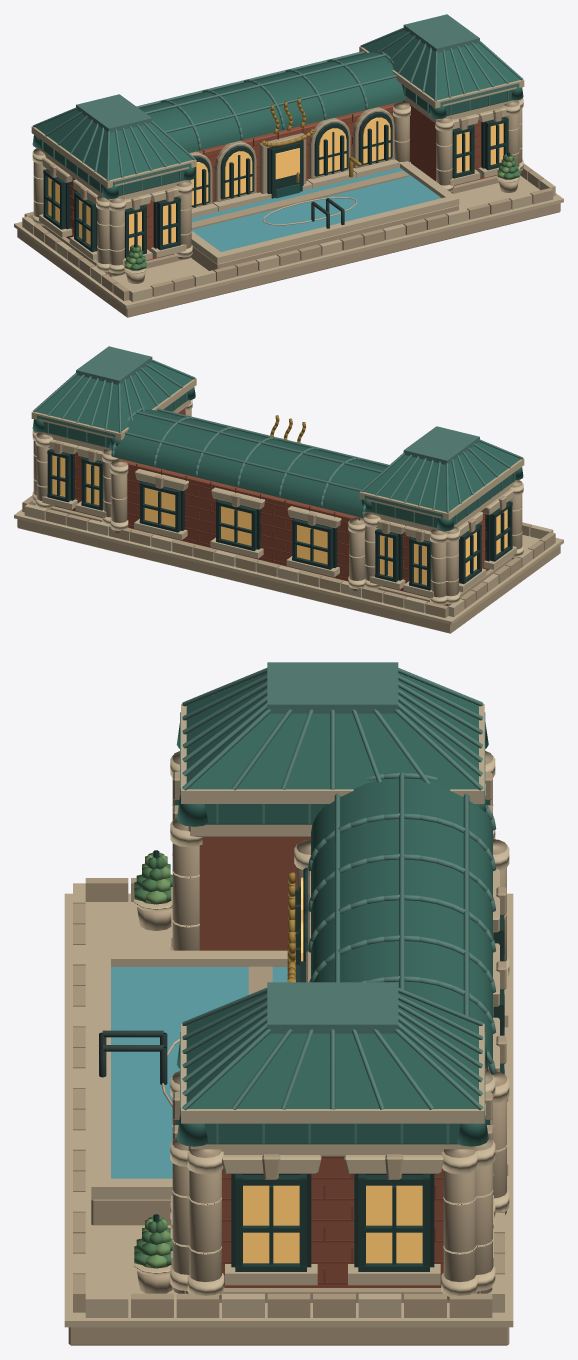
3 views of the same model, one above another, from view 1: azimuth 30°, elevation 25°; view 2: azimuth 150°, elevation 25°; view 3: azimuth 270°, elevation 25° (orthographic). The views are drawn at different scales.
Parts seen in each view (by area): view 1: expansion_onsen_1_geometry; view 2: expansion_onsen_1_geometry; view 3: expansion_onsen_1_geometry.
Boxes of the visible parts, x1,y1,x2,y2 form: expansion_onsen_1_geometry: (14, 14, 563, 317); expansion_onsen_1_geometry: (14, 346, 563, 633); expansion_onsen_1_geometry: (64, 662, 513, 1345).
Bounding box in the file's own units: 2.3 × 0.7297 × 1.02.
